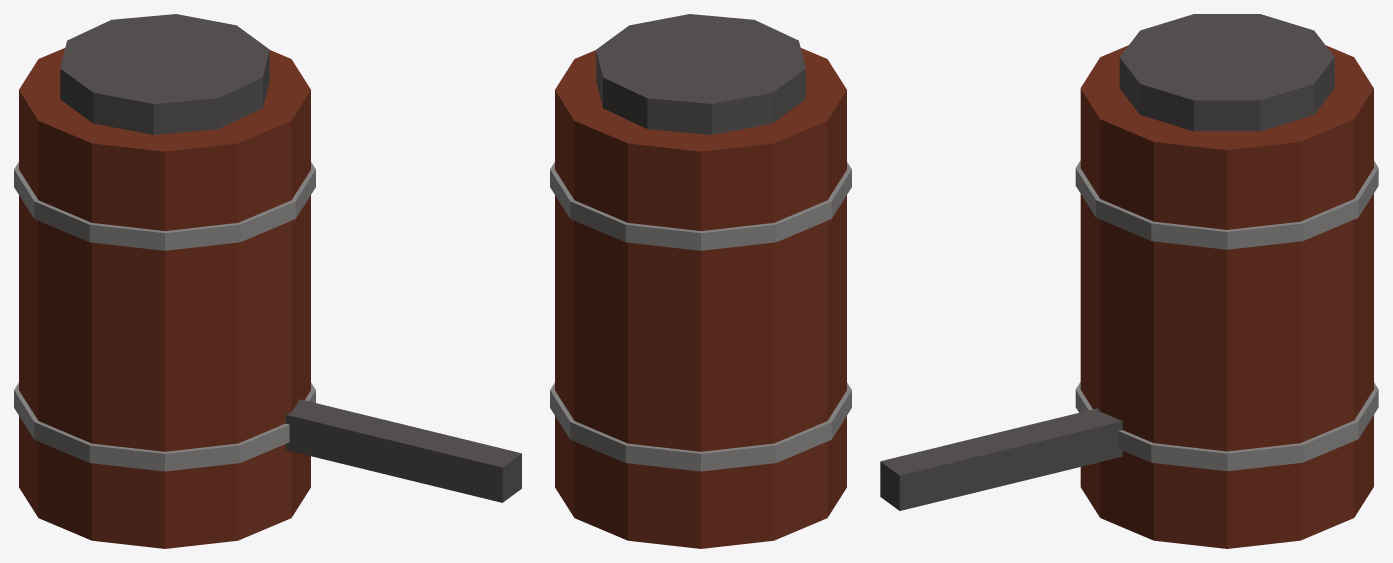
Rendered from B_drum.glb.
3 renders of one model, left to right at view 1: azimuth 30°, elevation 25°; view 2: azimuth 150°, elevation 25°; view 3: azimuth 270°, elevation 25°, orthographic.
Parts seen in each view (by area): view 1: Cylinder, Cylinder.003, Cube, Cylinder.002, Cylinder.001; view 2: Cylinder, Cylinder.003, Cylinder.001, Cylinder.002; view 3: Cylinder, Cylinder.003, Cube, Cylinder.002, Cylinder.001.
Part boxes in pixels (left/top/right/bottom): Cylinder: left=19, top=48, right=310, bottom=548; Cylinder.003: left=60, top=14, right=269, bottom=134; Cube: left=285, top=399, right=521, bottom=502; Cylinder.002: left=14, top=162, right=315, bottom=250; Cylinder.001: left=14, top=383, right=315, bottom=471; Cylinder: left=555, top=48, right=846, bottom=548; Cylinder.003: left=596, top=14, right=805, bottom=134; Cylinder.001: left=550, top=383, right=851, bottom=471; Cylinder.002: left=550, top=162, right=851, bottom=250; Cylinder: left=1080, top=45, right=1373, bottom=548; Cylinder.003: left=1119, top=14, right=1334, bottom=131; Cube: left=880, top=408, right=1122, bottom=510; Cylinder.002: left=1075, top=160, right=1378, bottom=249; Cylinder.001: left=1075, top=382, right=1378, bottom=471.
Bounding box in the file's own units: 0.7696 × 0.97 × 1.02.
